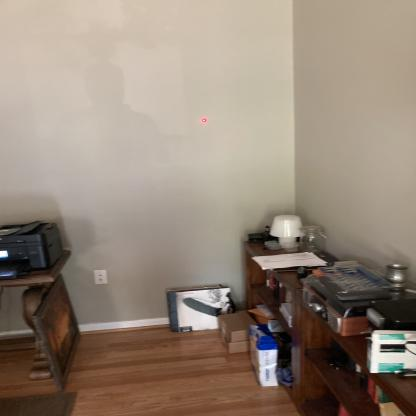target: (203, 120, 208, 124)
